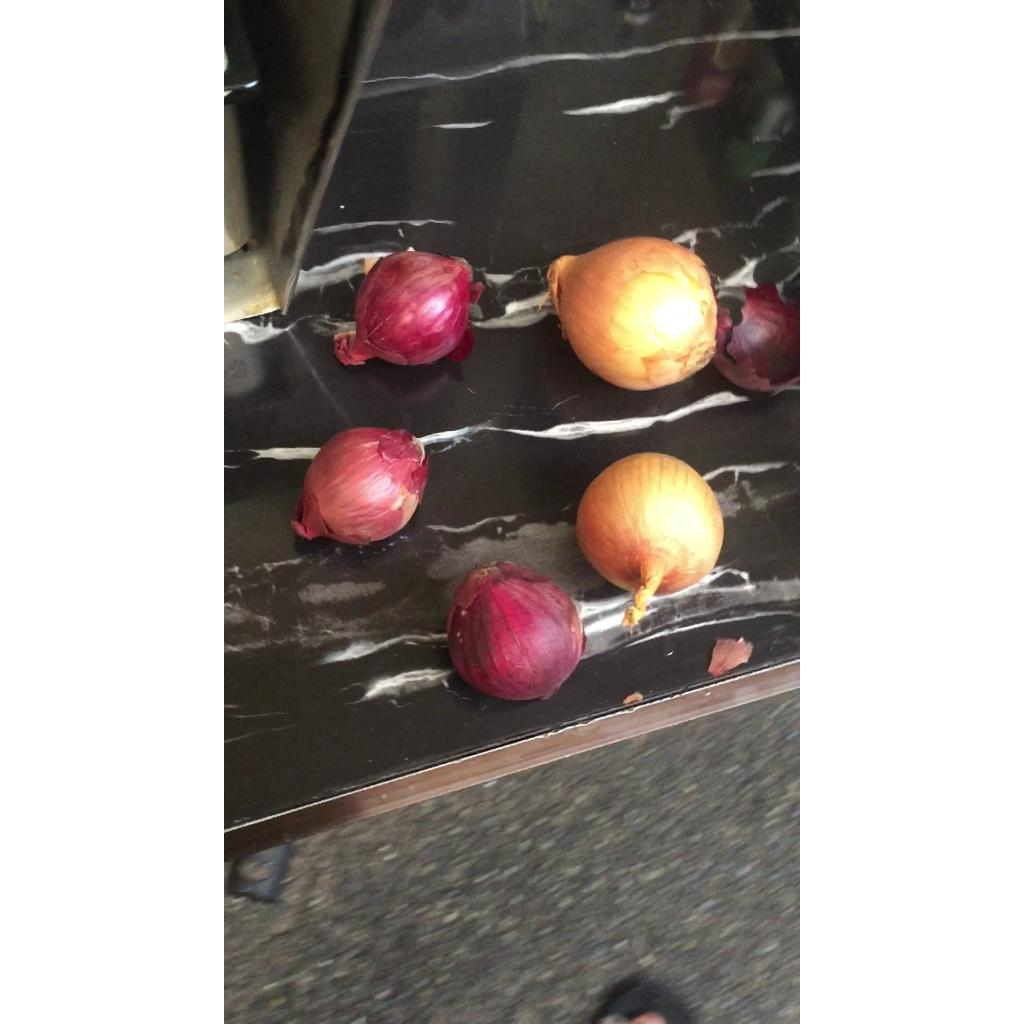Onion: (547, 236, 717, 390), (577, 453, 723, 595), (446, 562, 586, 701), (332, 248, 483, 365), (290, 428, 427, 545)
